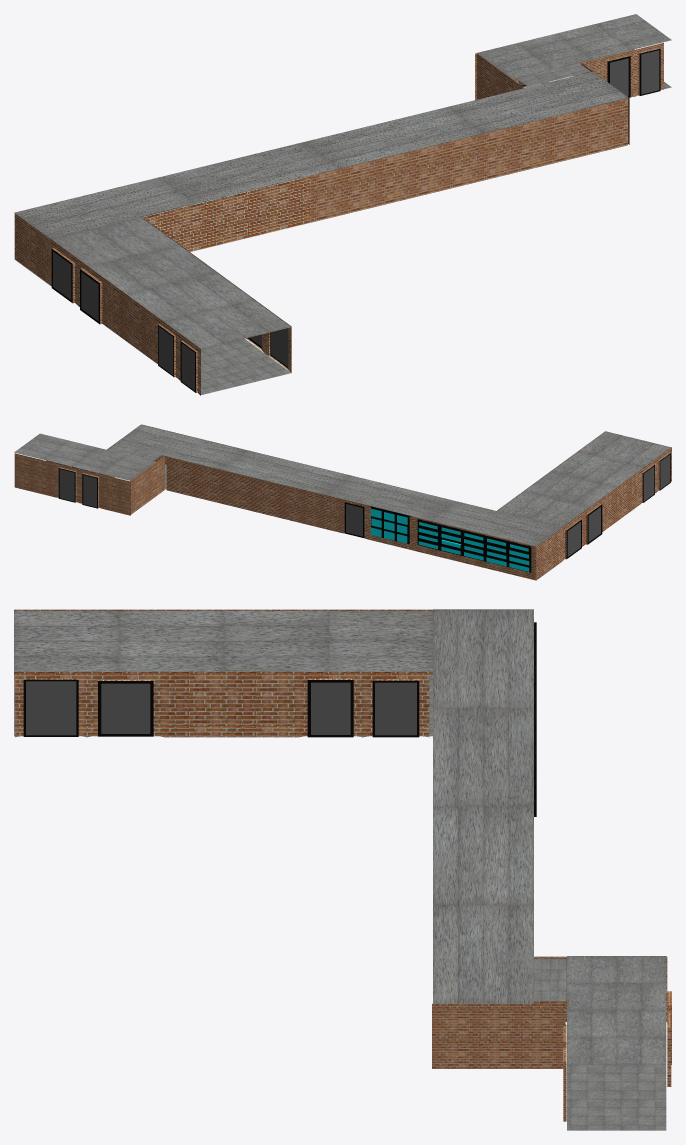
The model's file is pasilloA (1).fbx.
3 renders of one model, top to bottom at view 1: azimuth 30°, elevation 25°; view 2: azimuth 150°, elevation 25°; view 3: azimuth 270°, elevation 25°, orthographic. The views are drawn at different scales.
Parts seen in each view (by area): view 1: Plane.018; view 2: Plane.018; view 3: Plane.018.
Boxes of the visible parts, left/top/right/bottom form: Plane.018: left=14, top=14, right=671, bottom=395; Plane.018: left=14, top=424, right=671, bottom=580; Plane.018: left=14, top=609, right=671, bottom=1130.
Size of the model in its own units: 5929 by 400 by 3605.
Materials: 5 (2 with a texture image).
